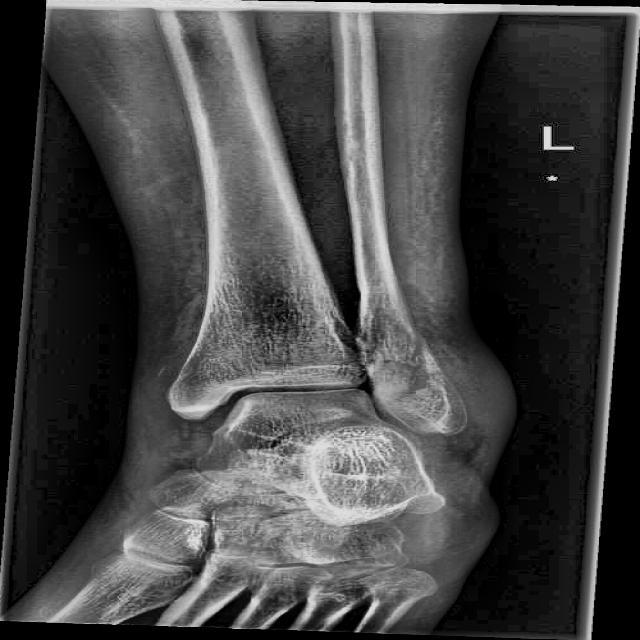fracture: (402, 334, 427, 364)
